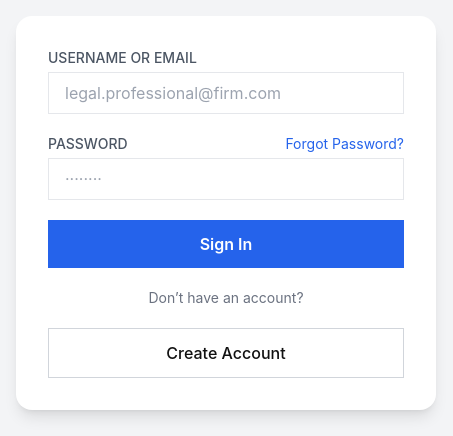
Test: LoginPage › toggles password visibility when icon is clicked
Step 1. Type "secret" into the password field with placeholder "········" → (226, 179), box x1=48 y1=158 x2=404 y2=200
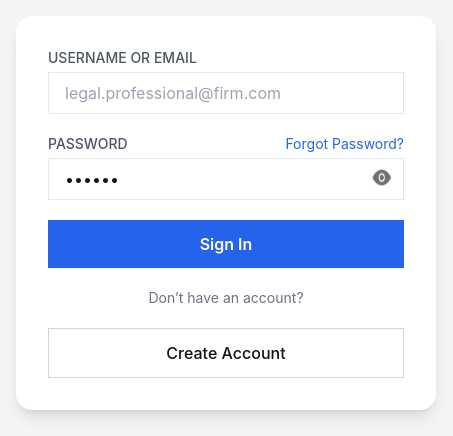
Step 2. Click the button with alt text "toggle password" → (382, 177), box x1=372 y1=167 x2=392 y2=187
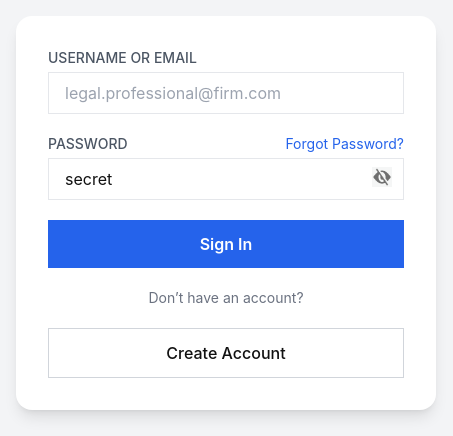
Expected: the field with placeholder "········" shows its text, x1=48 y1=158 x2=404 y2=200
Step 3. Click the button with alt text "toggle password" → (382, 177), box x1=372 y1=167 x2=392 y2=187
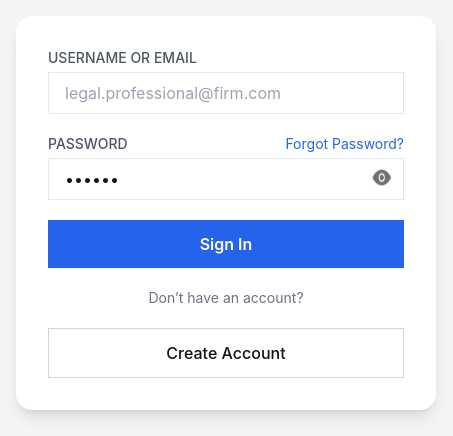
Expected: the password field with placeholder "········" hides its text, x1=48 y1=158 x2=404 y2=200
